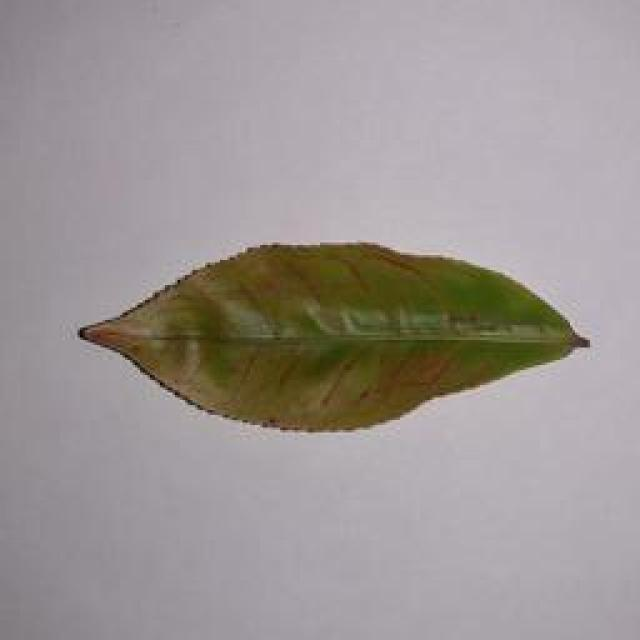Red Leaf Spot: (72, 231, 593, 441)
